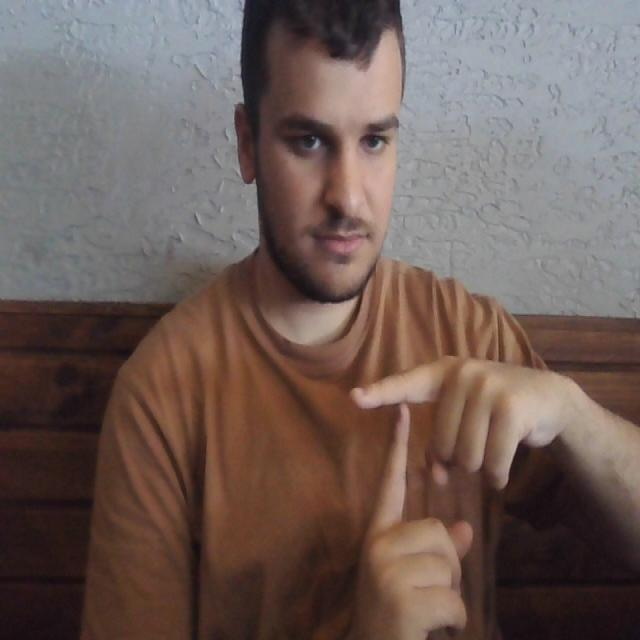Tesekkurler: (354, 347, 462, 553)
